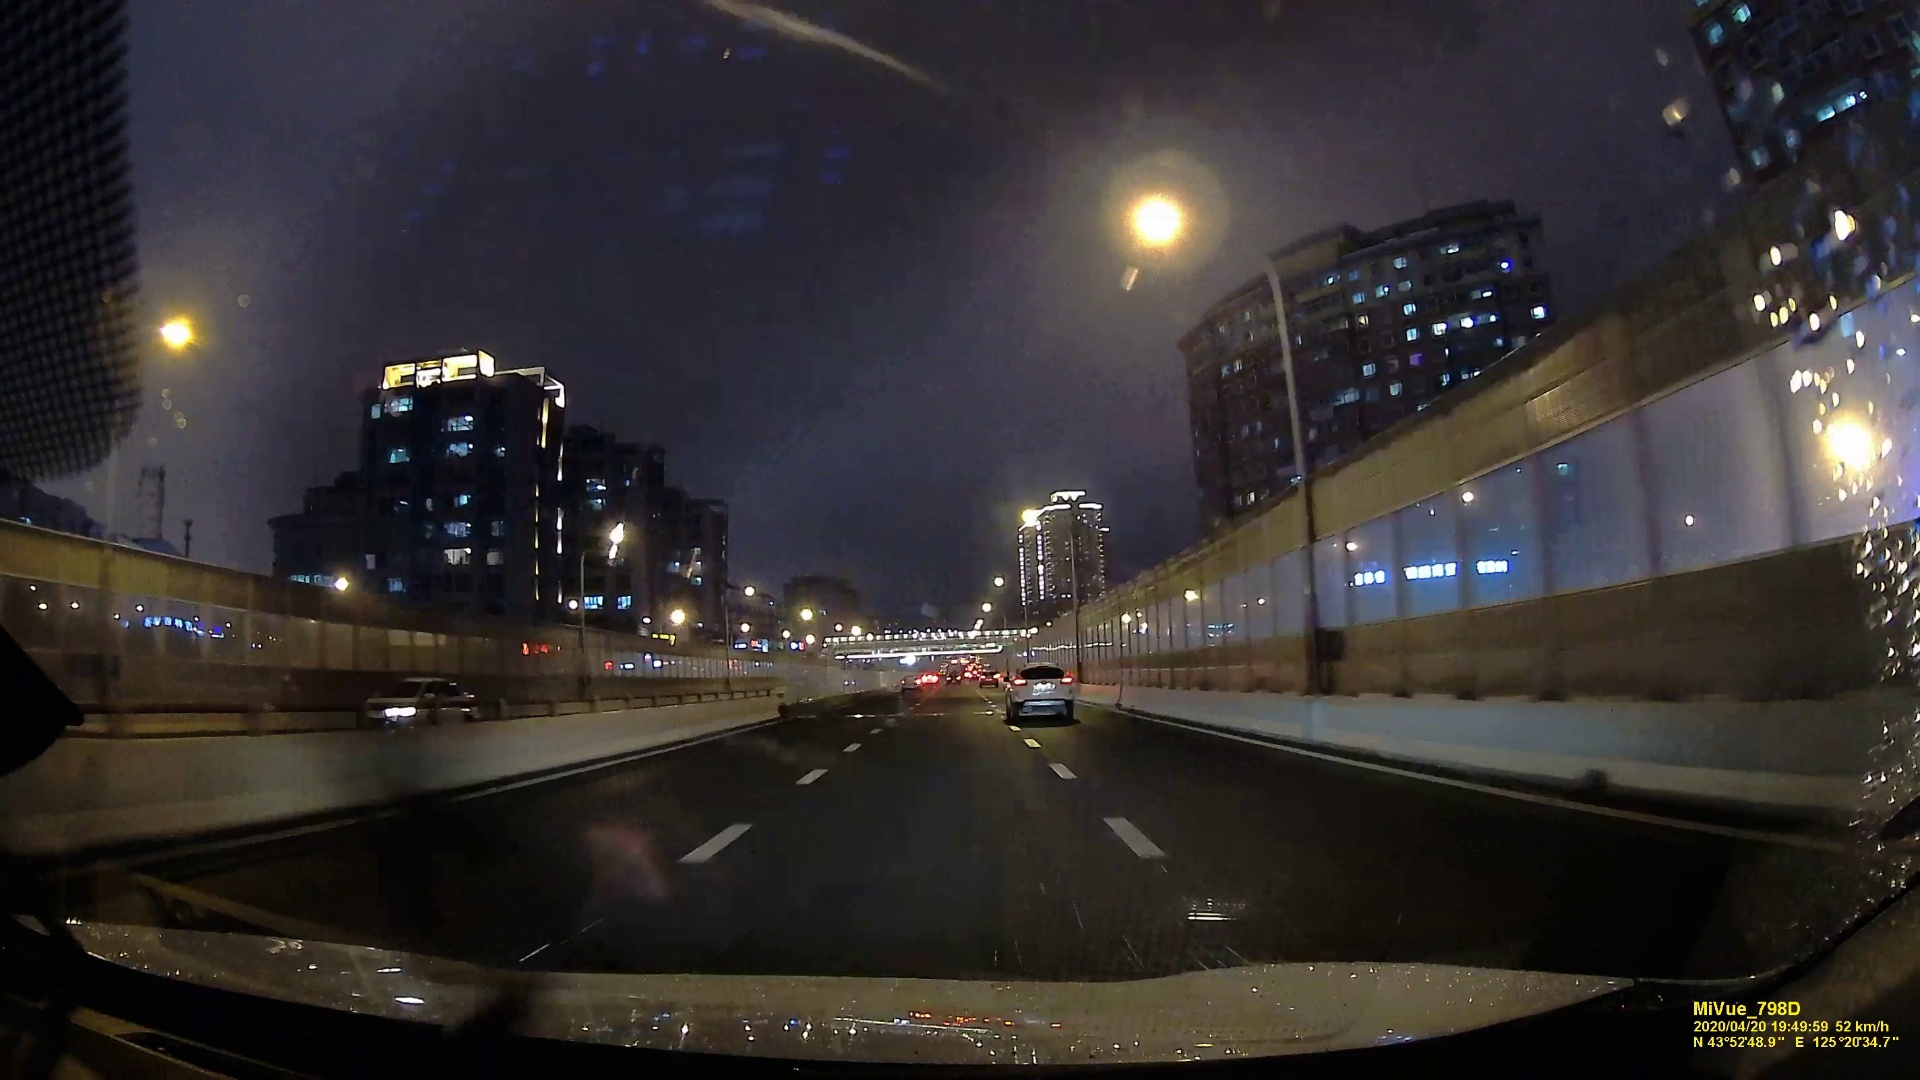vehicle: (356, 674, 472, 728), (1005, 665, 1077, 723), (978, 669, 1000, 687)
